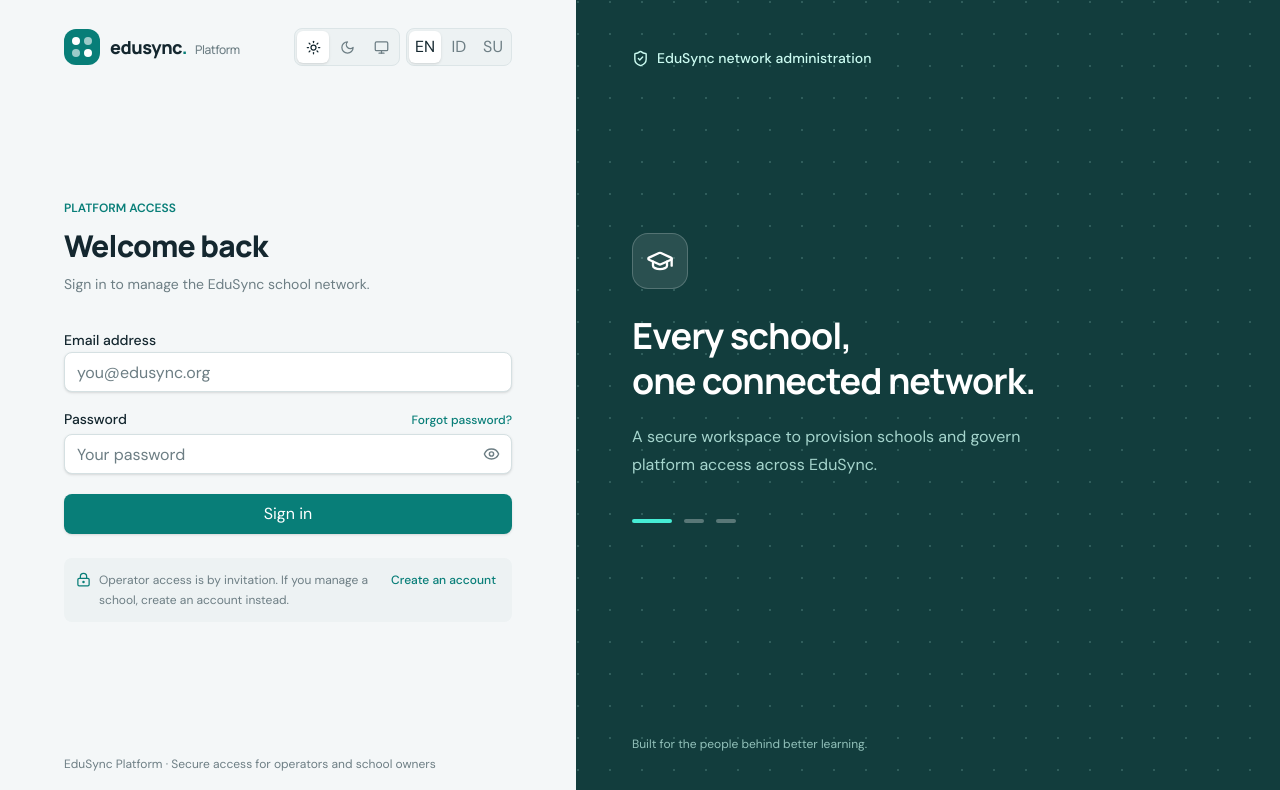
Test case: Public account flows › signs in and routes the operator to the platform
Type "admin@example.com" into the field labelled "Email address".
click(288, 372); type("admin@example.com")  # box [64,352,512,392]
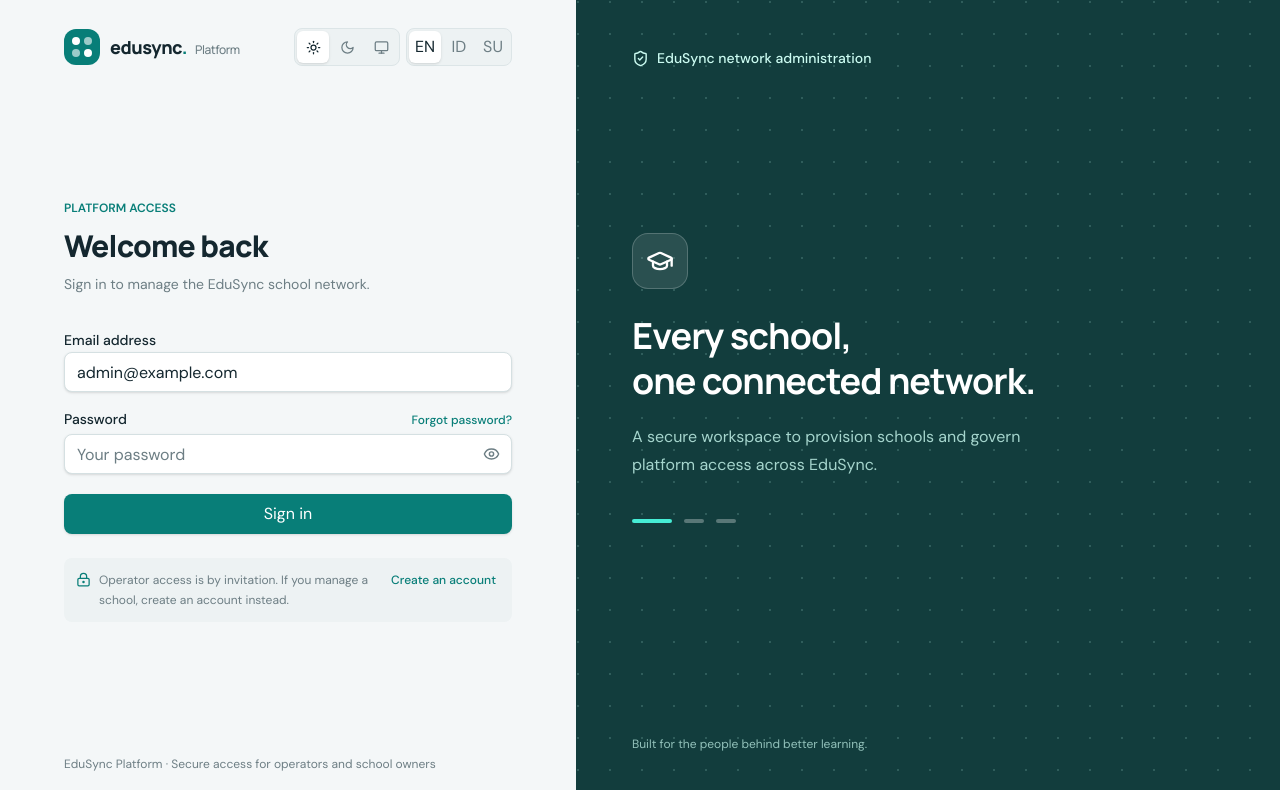
Type "a-secure-password" into the password field labelled "Password".
click(288, 454); type("a-secure-password")  # box [64,434,512,474]
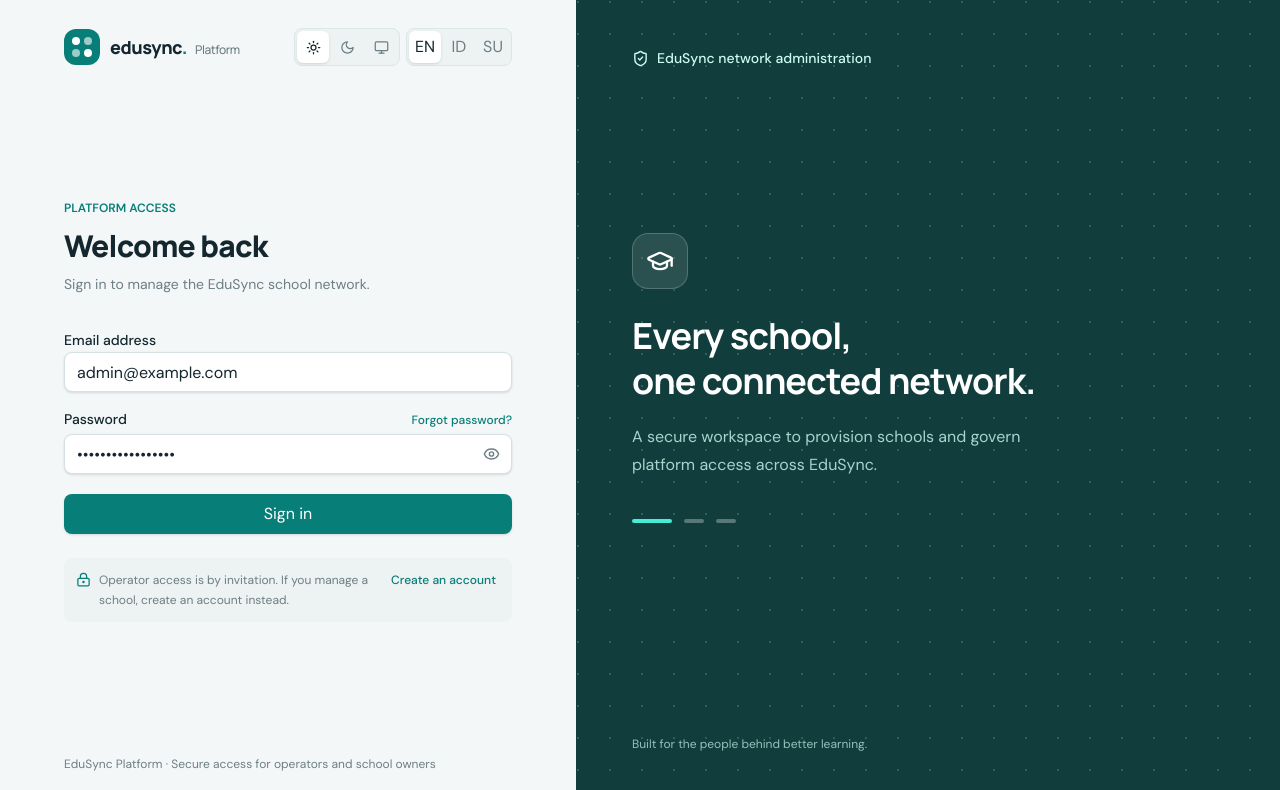
Click the button "Sign in".
click(288, 514)  # box [64,494,512,534]
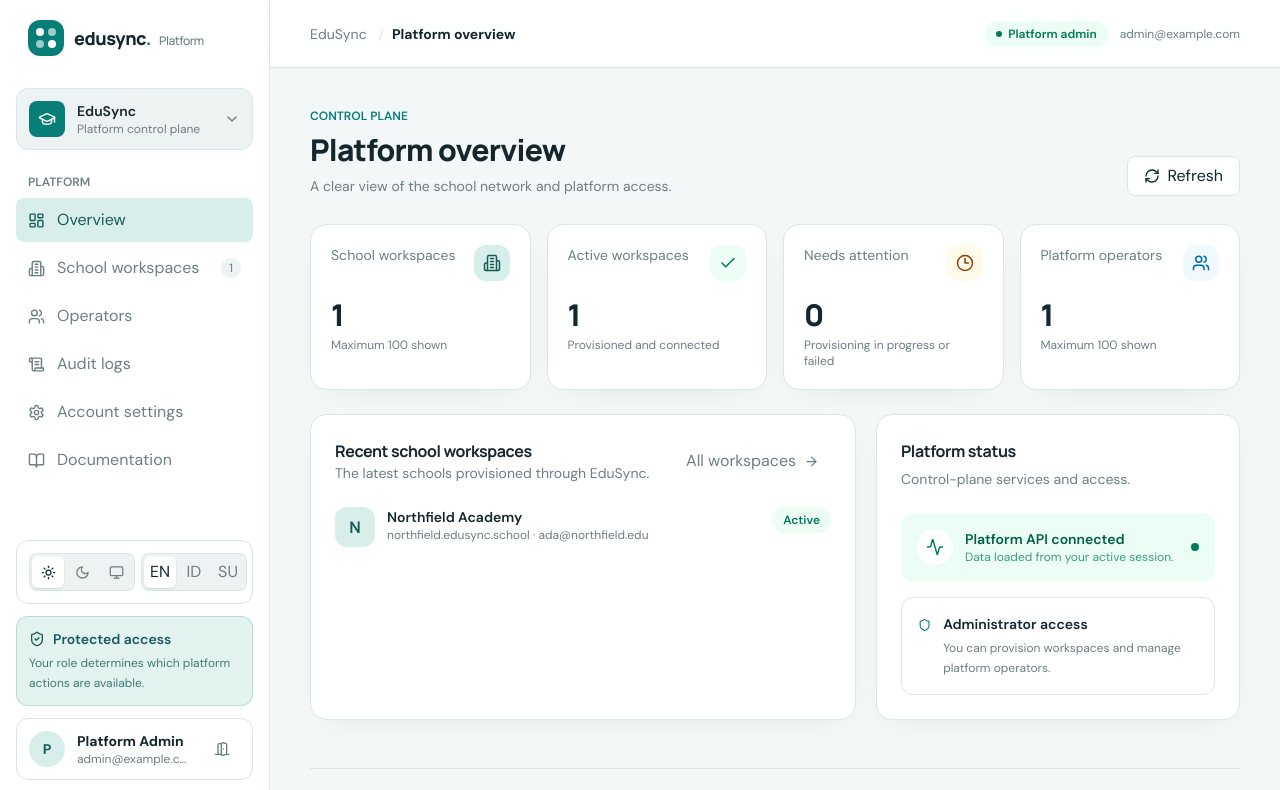
Now the text "Northfield Academy" is shown, box [387,508,522,526]
